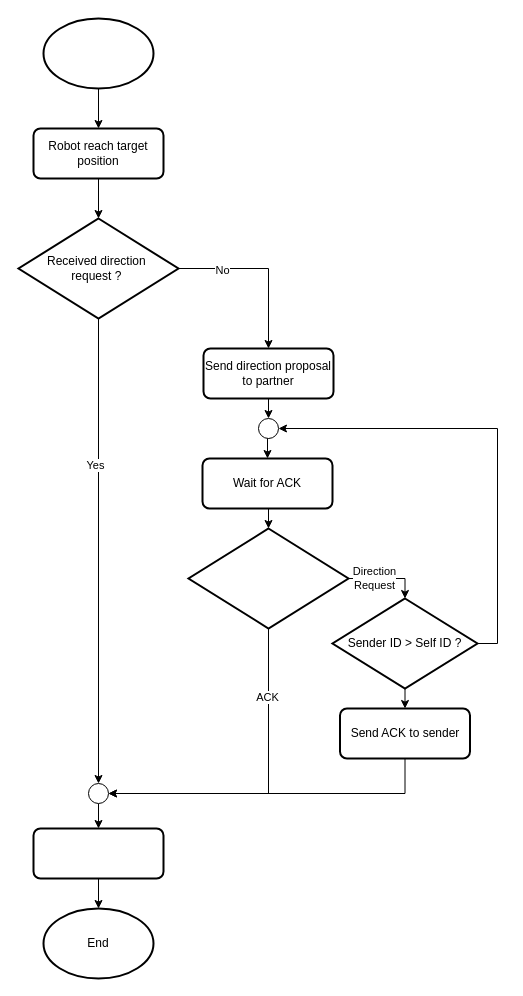
The diagram is 523 pixels wide and 996 high, and some of its shapes have lost their labels. Here are the shapes that lost their labels. From the top down, the centre of each, then its label:
(98,53): Start
(268,578): Received ACK or Direction request ?
(98,853): Turn to received direction
